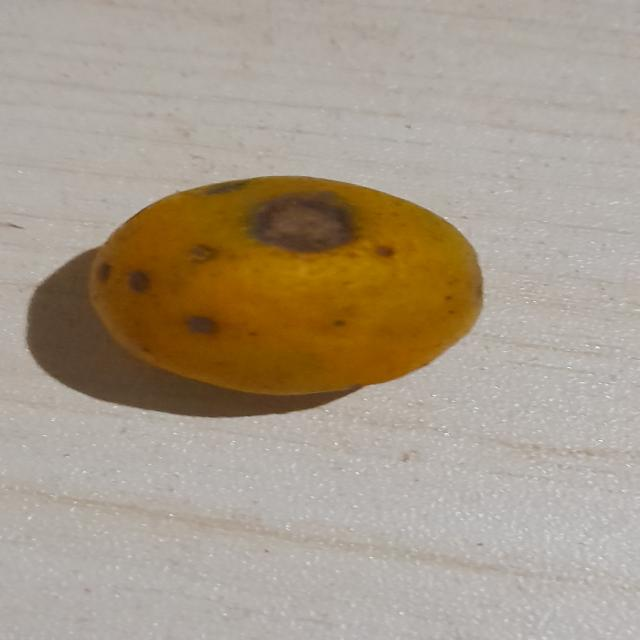black spot: (86, 175, 491, 404)
